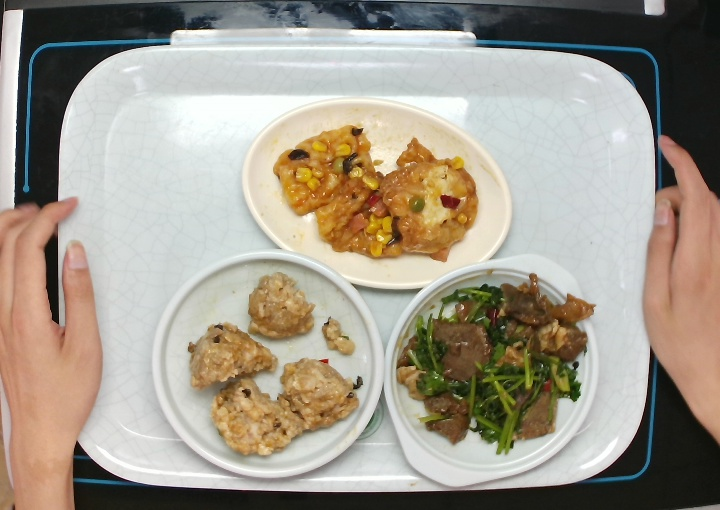JYsf-Shuang_Er_Pan: (382, 251, 601, 490)
JYsf-Tuo_Yuan_Wan: (240, 95, 514, 291)
JYsf-Xiao_Yuan_Pan: (149, 247, 386, 480)
